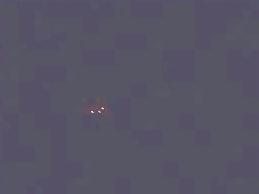Plane: (80, 102, 116, 121)
